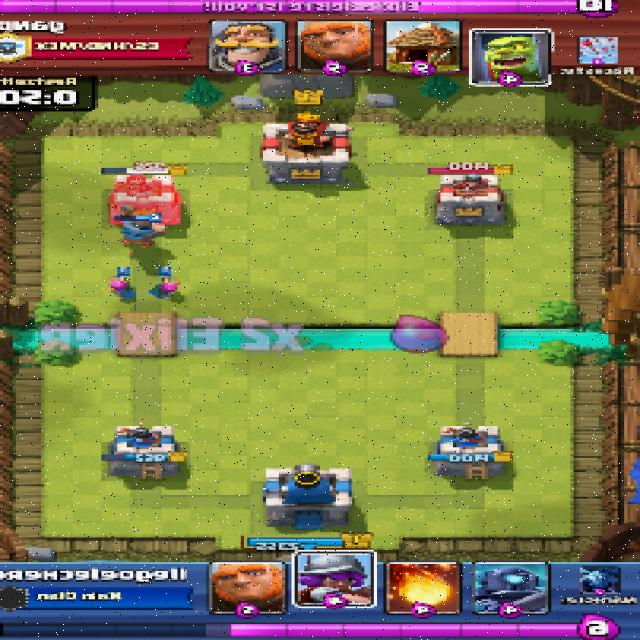Player-Archer: (106, 274, 140, 301), (149, 279, 182, 296)
Player-Knight: (111, 216, 168, 245)
